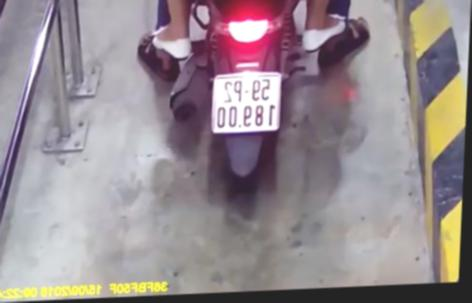License_Plate: (202, 66, 287, 140)
